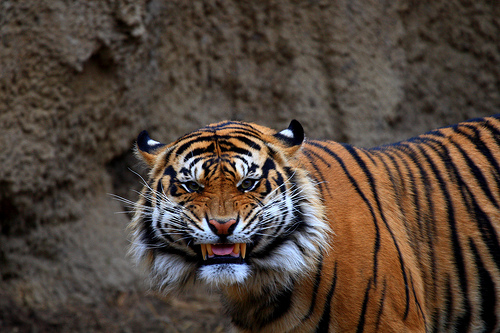Tigre: (142, 117, 473, 319)
